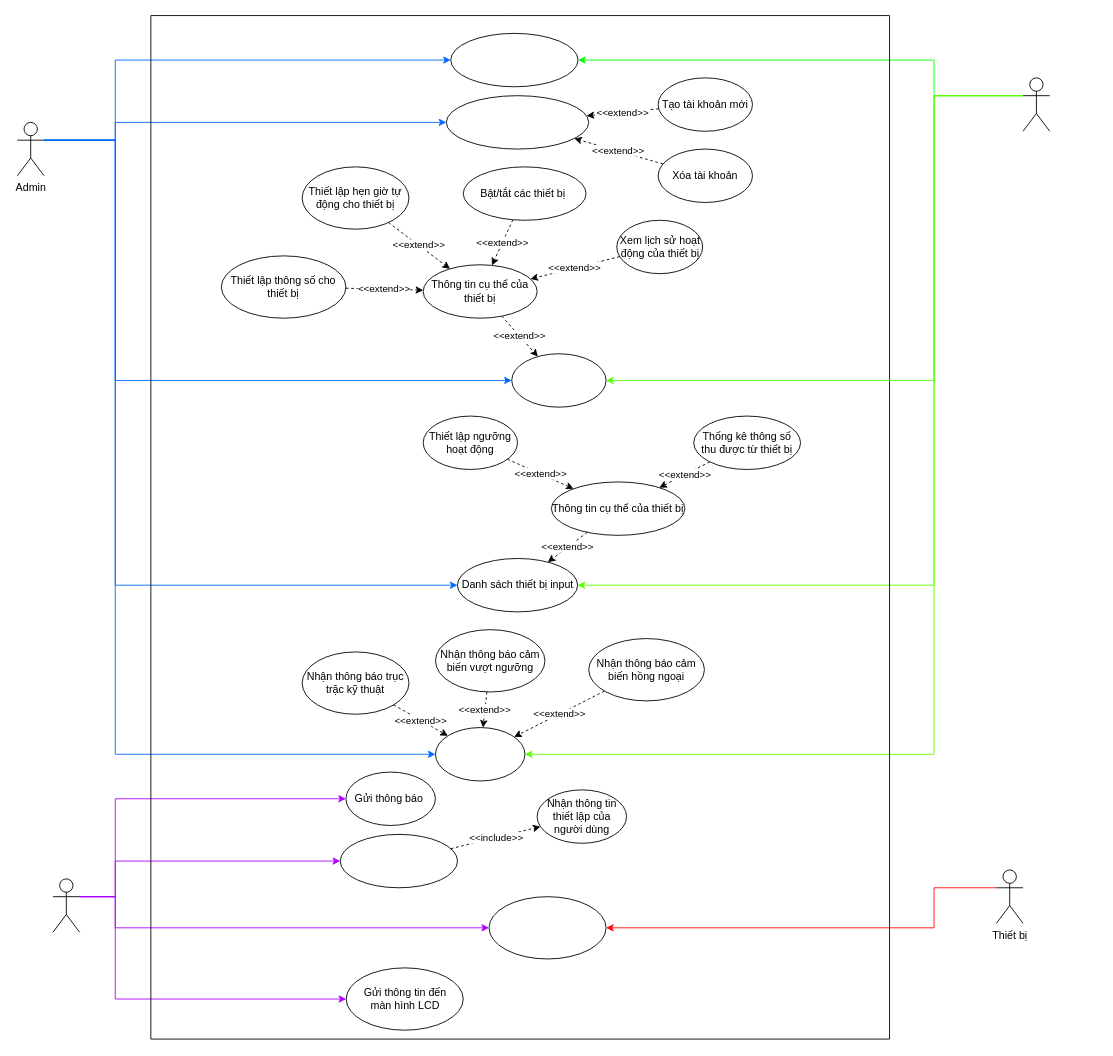
The diagram is 1113 pixels wide and 1056 high, and some of its shapes have lost their labels. Each missing label, with the centre of its shape:
Cloud server: (x=66, y=905)
Danh sách thiết bị output: (x=558, y=380)
Danh sách tài khoản người dùng: (x=517, y=122)
Gửi/nhận thông tin: (x=547, y=927)
Người dùng thông thường: (x=1036, y=104)
Nhận thông báo: (x=480, y=754)
Điều khiển thiết bị: (x=398, y=860)
Đăng nhập: (x=514, y=59)
